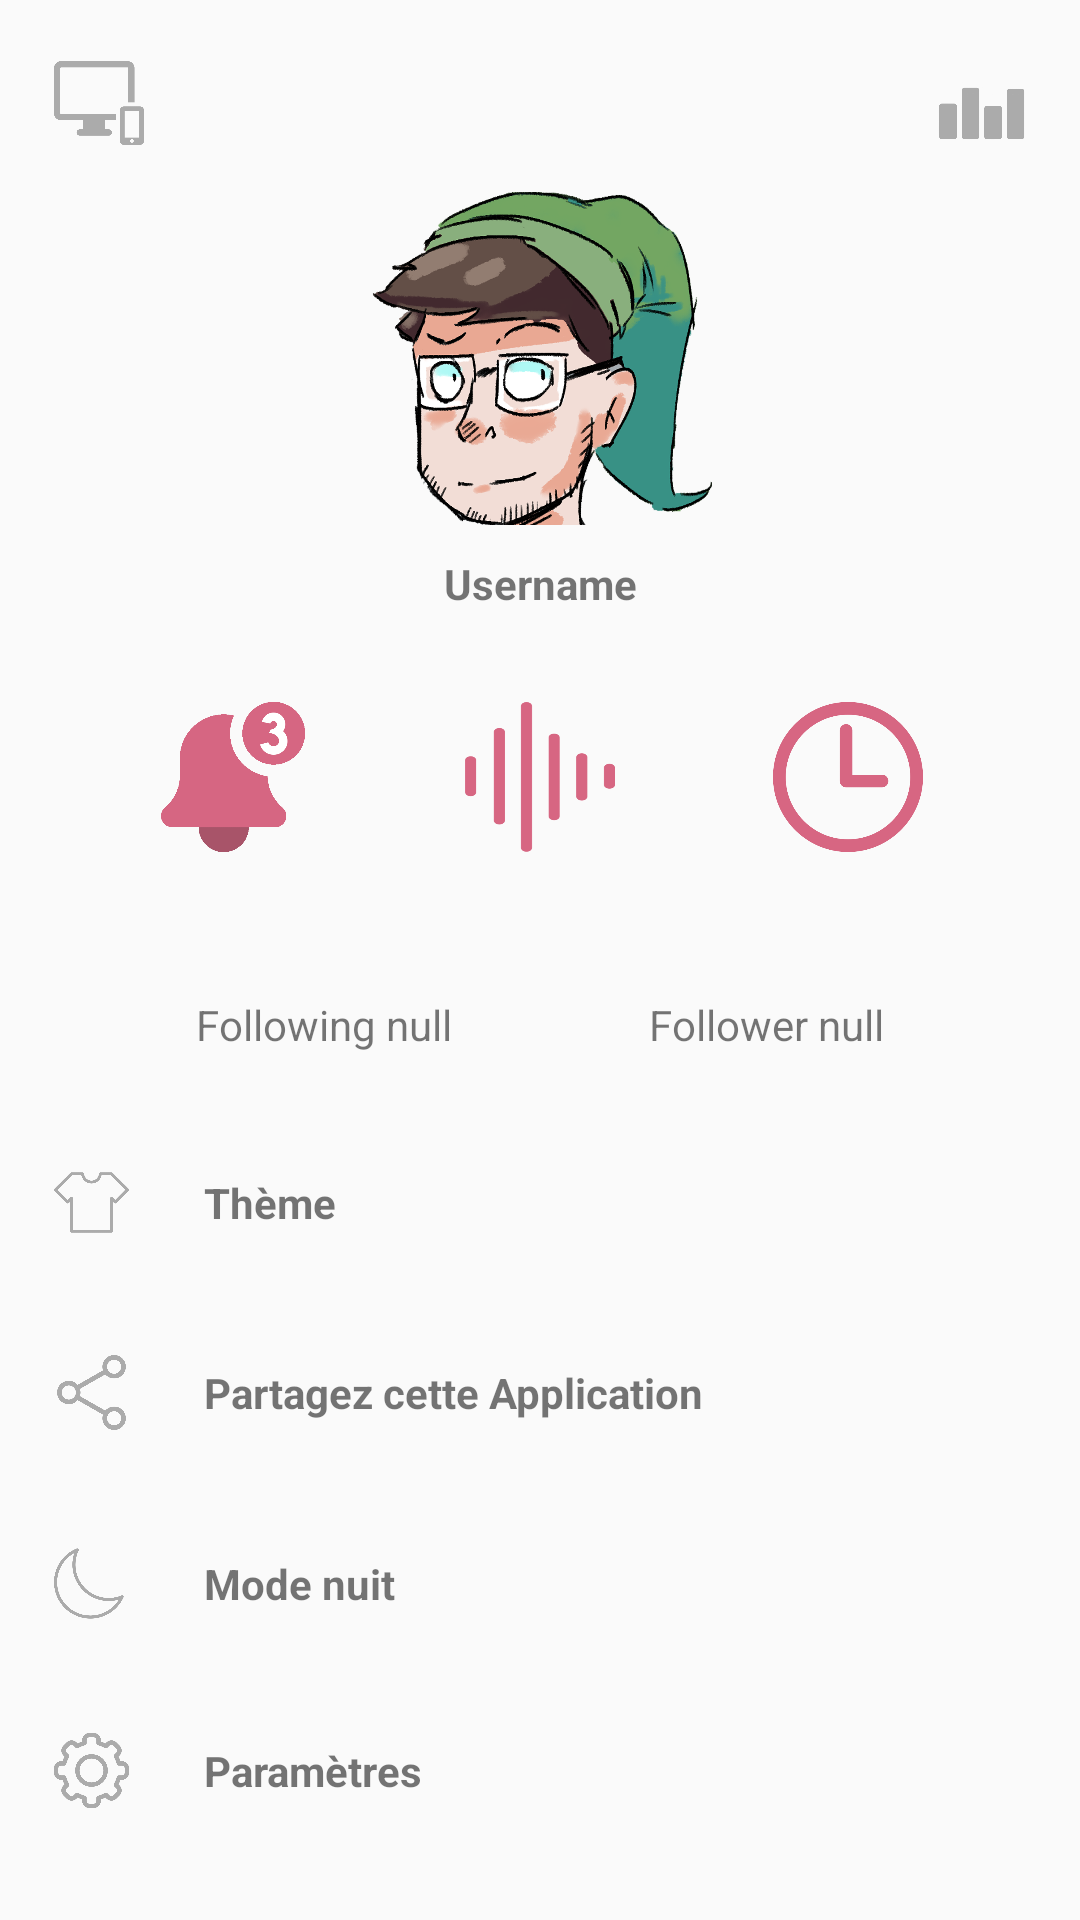

Screen size 1080×1920. Icon name, then its center in pixels as (x,y):
Icon Clock: (848,777)
Icon Graphic: (981,113)
Icon Night: (89,1583)
Icon Notification Bell: (233,777)
Icon Screen: (99,103)
Icon Settings: (91,1770)
Icon Share: (91,1392)
Icon T-Shirt: (91,1202)
Icon Waves: (540,777)
Profile Picture: (542,358)
